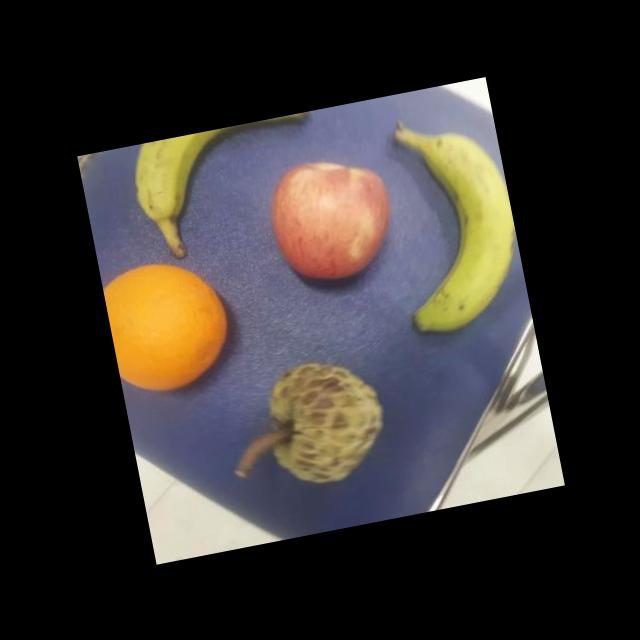Sakya fruit: (258, 348, 394, 492)
apple: (257, 144, 403, 296)
banana: (376, 108, 530, 340), (123, 110, 327, 226)
orange: (99, 247, 244, 403)
